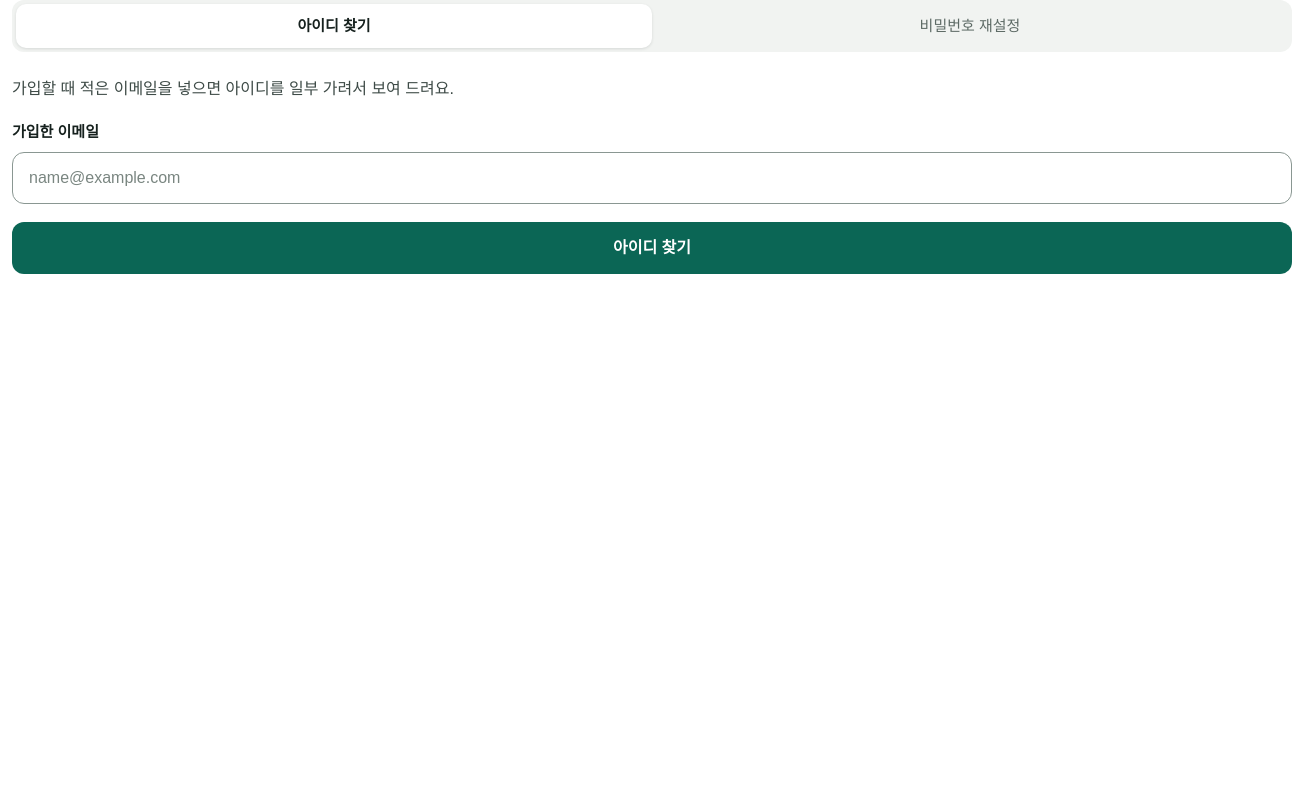
it: AccountRecoveryForm — 아이디 찾기 (이메일 → 화면에 바로) › TEST-FIND-UI-001: 가린 아이디와 가입일을 바로 보여 준다
Type "na@example.com" into the field labelled "가입한 이메일".
click(652, 178); type("na@example.com")  # box x1=29 y1=166 x2=1275 y2=190
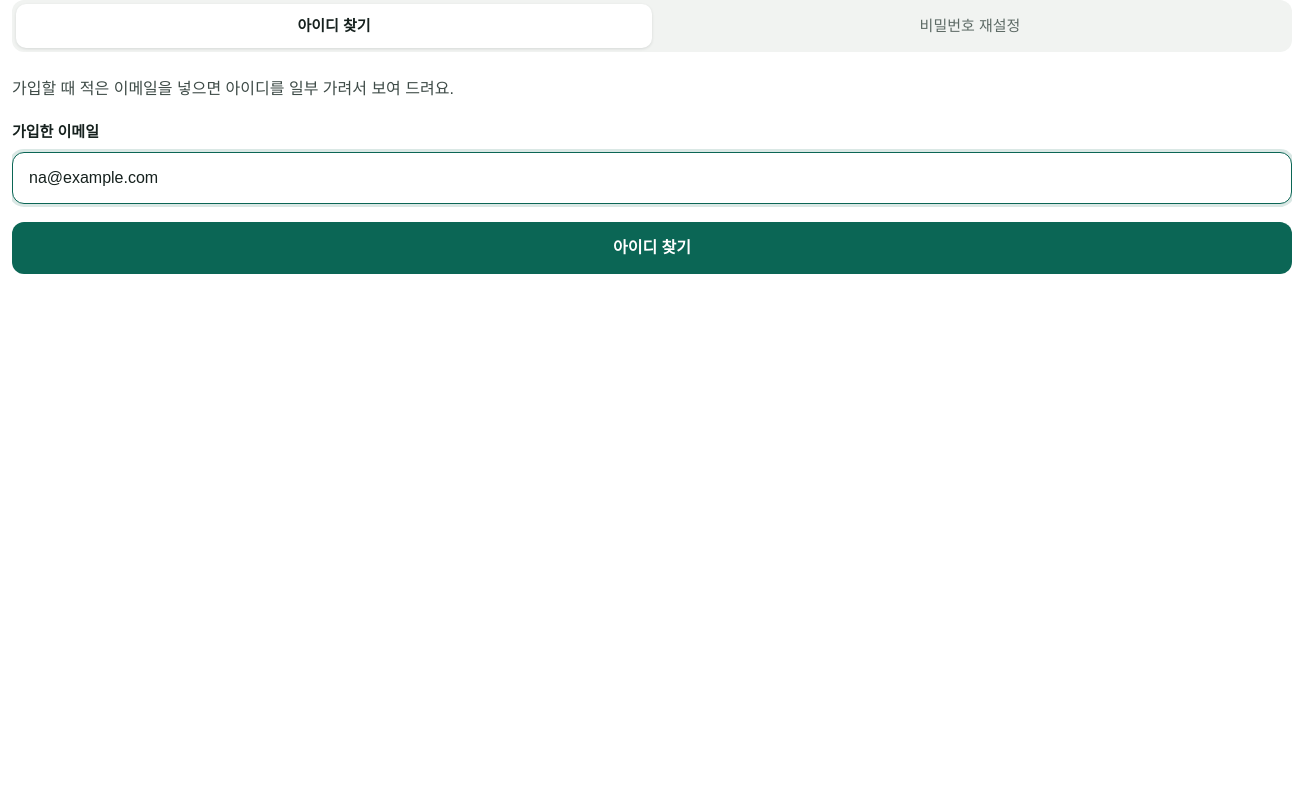
Click the button "아이디 찾기".
click(652, 248)  # box x1=12 y1=222 x2=1292 y2=274
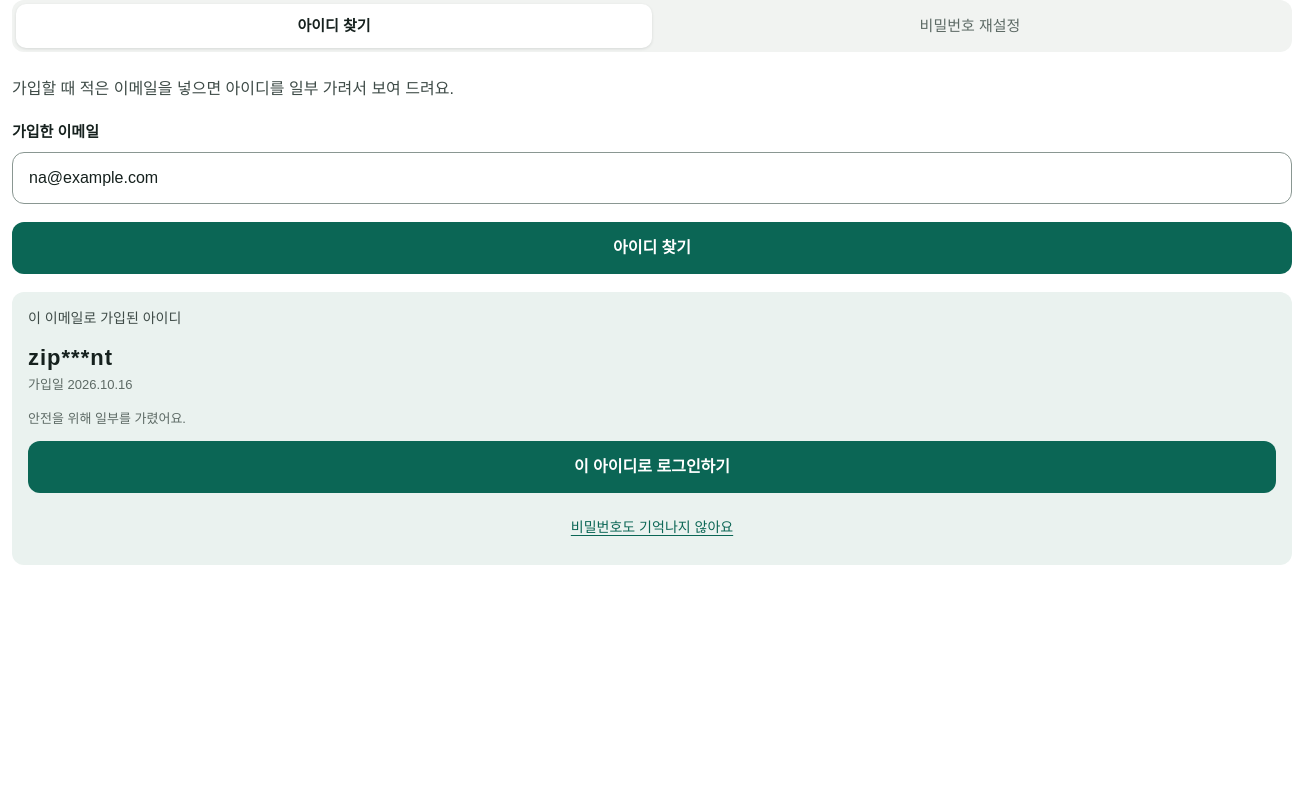
Expected: the message shows "zip***nt", x1=28 y1=345 x2=113 y2=370
Expected: the message shows "가입일 2026.10.16", x1=12 y1=292 x2=1292 y2=565
Expected: the message shows "안전을 위해 일부를 가렸어요.", x1=28 y1=411 x2=186 y2=426
